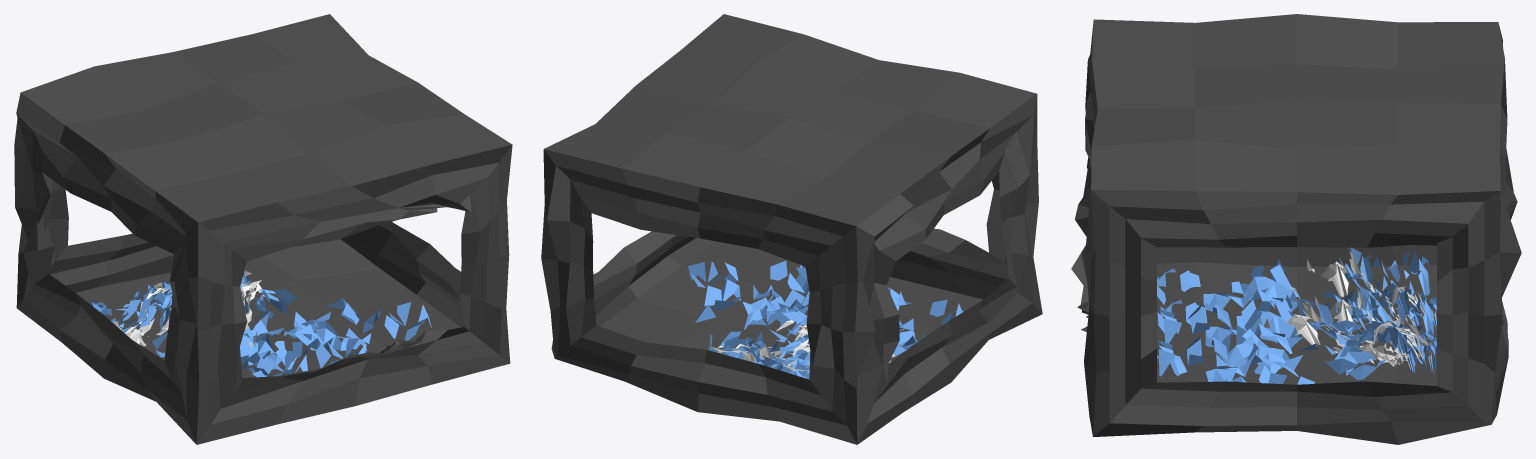
Rendered from BuildingBlockDestroyed.glb.
The picture shows the model from 3 angles, left to right: view 1: azimuth 30°, elevation 25°; view 2: azimuth 150°, elevation 25°; view 3: azimuth 270°, elevation 25°; orthographic projection. The views are drawn at different scales.
Visible parts, largest first — view 1: BuildingBlockDestroyed, BrokenWindow2, BrokenWindow1, BrokenWindow3; view 2: BuildingBlockDestroyed, BrokenWindow2, BrokenWindow1, BrokenWindow3; view 3: BuildingBlockDestroyed, BrokenWindow3, BrokenWindow2, BrokenWindow1.
Part boxes in pixels (box(x1,y1,x2,y2)): BuildingBlockDestroyed: box(14, 14, 512, 444); BrokenWindow2: box(160, 283, 431, 358); BrokenWindow1: box(139, 270, 366, 377); BrokenWindow3: box(89, 282, 307, 376); BuildingBlockDestroyed: box(541, 14, 1042, 444); BrokenWindow2: box(688, 260, 810, 368); BrokenWindow1: box(708, 267, 911, 377); BrokenWindow3: box(781, 288, 963, 379); BuildingBlockDestroyed: box(1071, 14, 1521, 444); BrokenWindow3: box(1157, 247, 1436, 343); BrokenWindow2: box(1157, 288, 1436, 384); BrokenWindow1: box(1157, 285, 1436, 375).
Size of what is drawn, in the model's own units: 6.42 by 4.21 by 6.59.
